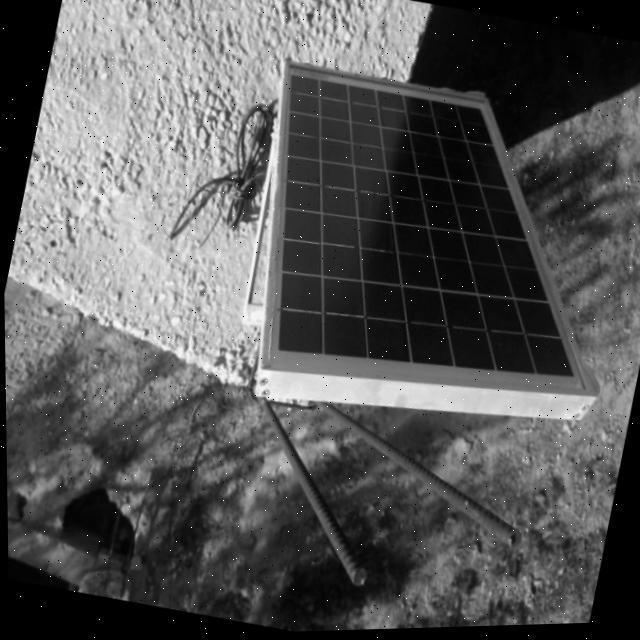Normal Solar Panel: (222, 53, 640, 439)
